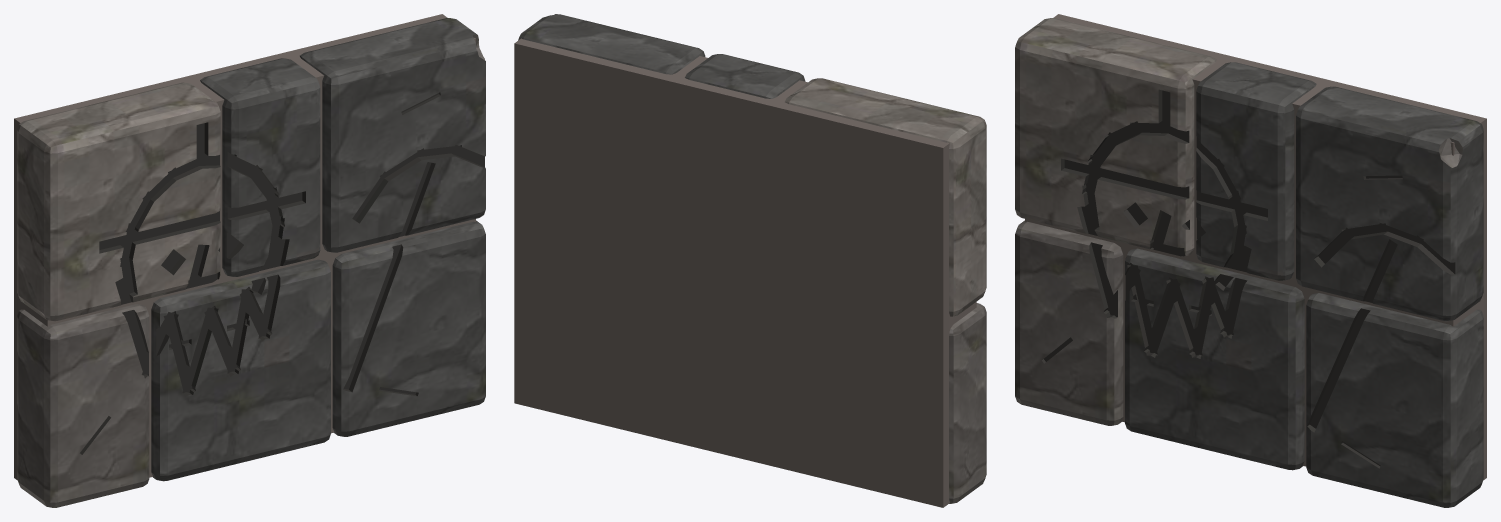
Rendered from graffiti_pell.glb.
3 views of the same model, side by side, from view 1: azimuth 30°, elevation 25°; view 2: azimuth 150°, elevation 25°; view 3: azimuth 330°, elevation 25° (orthographic).
Visible parts, largest first — view 1: model; view 2: model; view 3: model.
Boxes of the visible parts, x1,y1,x2,y2 form: model: [14, 14, 485, 507]; model: [514, 14, 986, 507]; model: [1015, 14, 1486, 507].
Size of the model in its own units: 0.988 by 0.788 by 0.16.
Materials: 5 (3 with a texture image).
